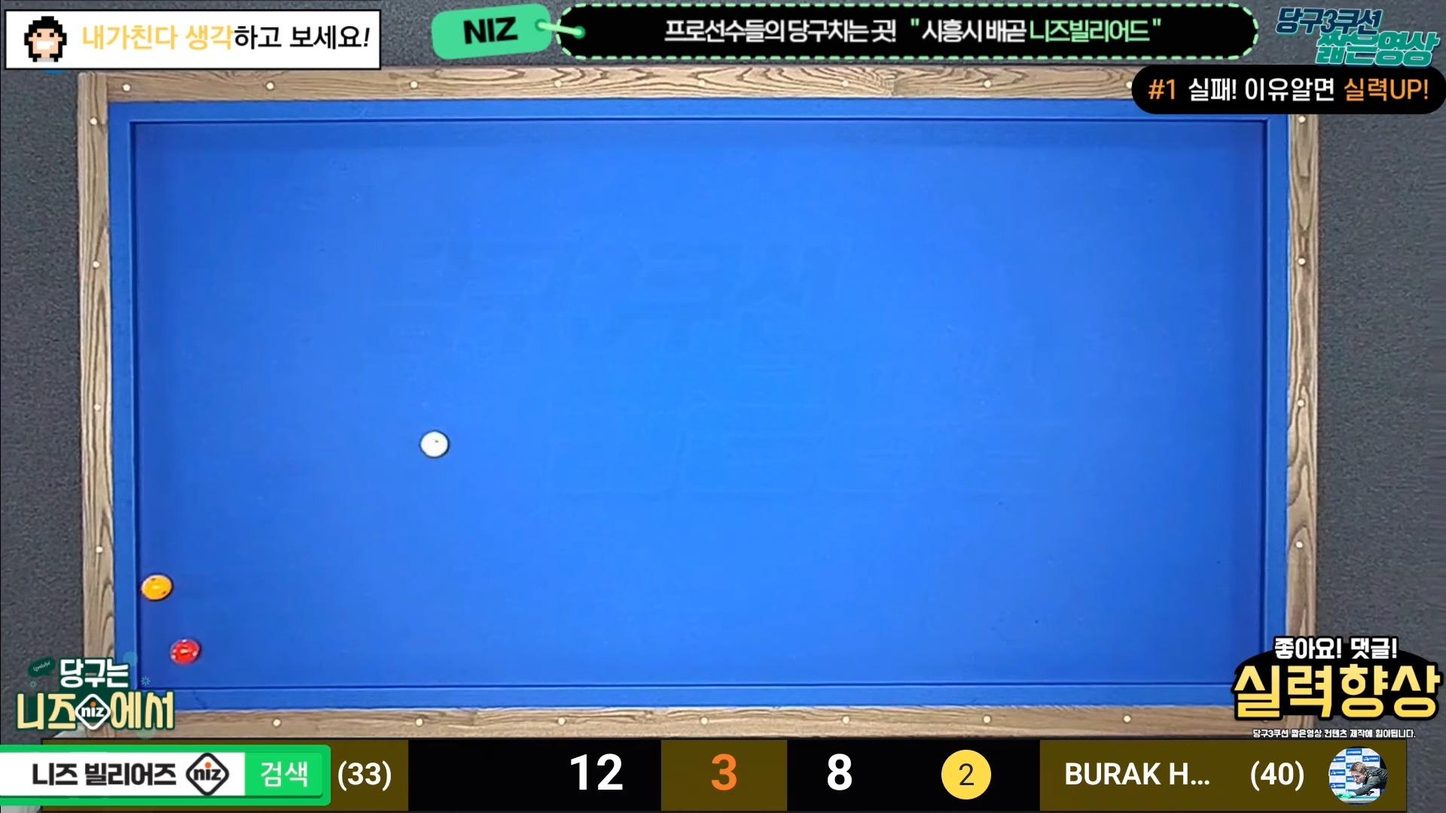-billiard-ball: (419, 429, 449, 458)
Red: (168, 639, 202, 664)
White: (415, 432, 450, 459)
Yellow: (139, 575, 177, 603)
